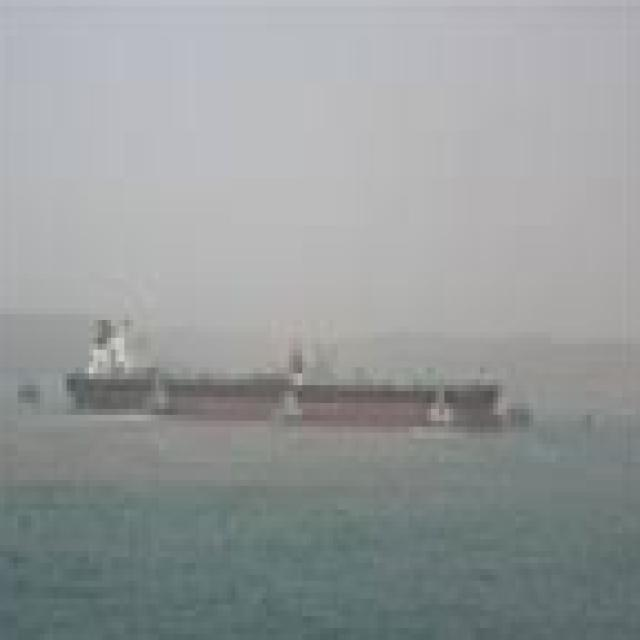cargoship: (66, 301, 503, 424)
